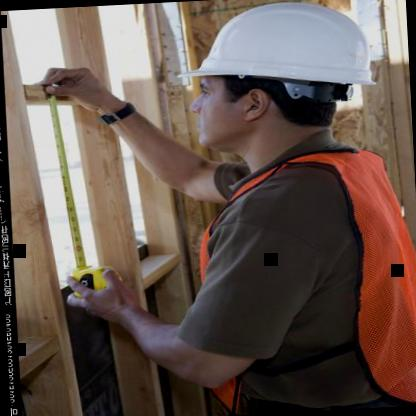helmet: (175, 0, 385, 165)
